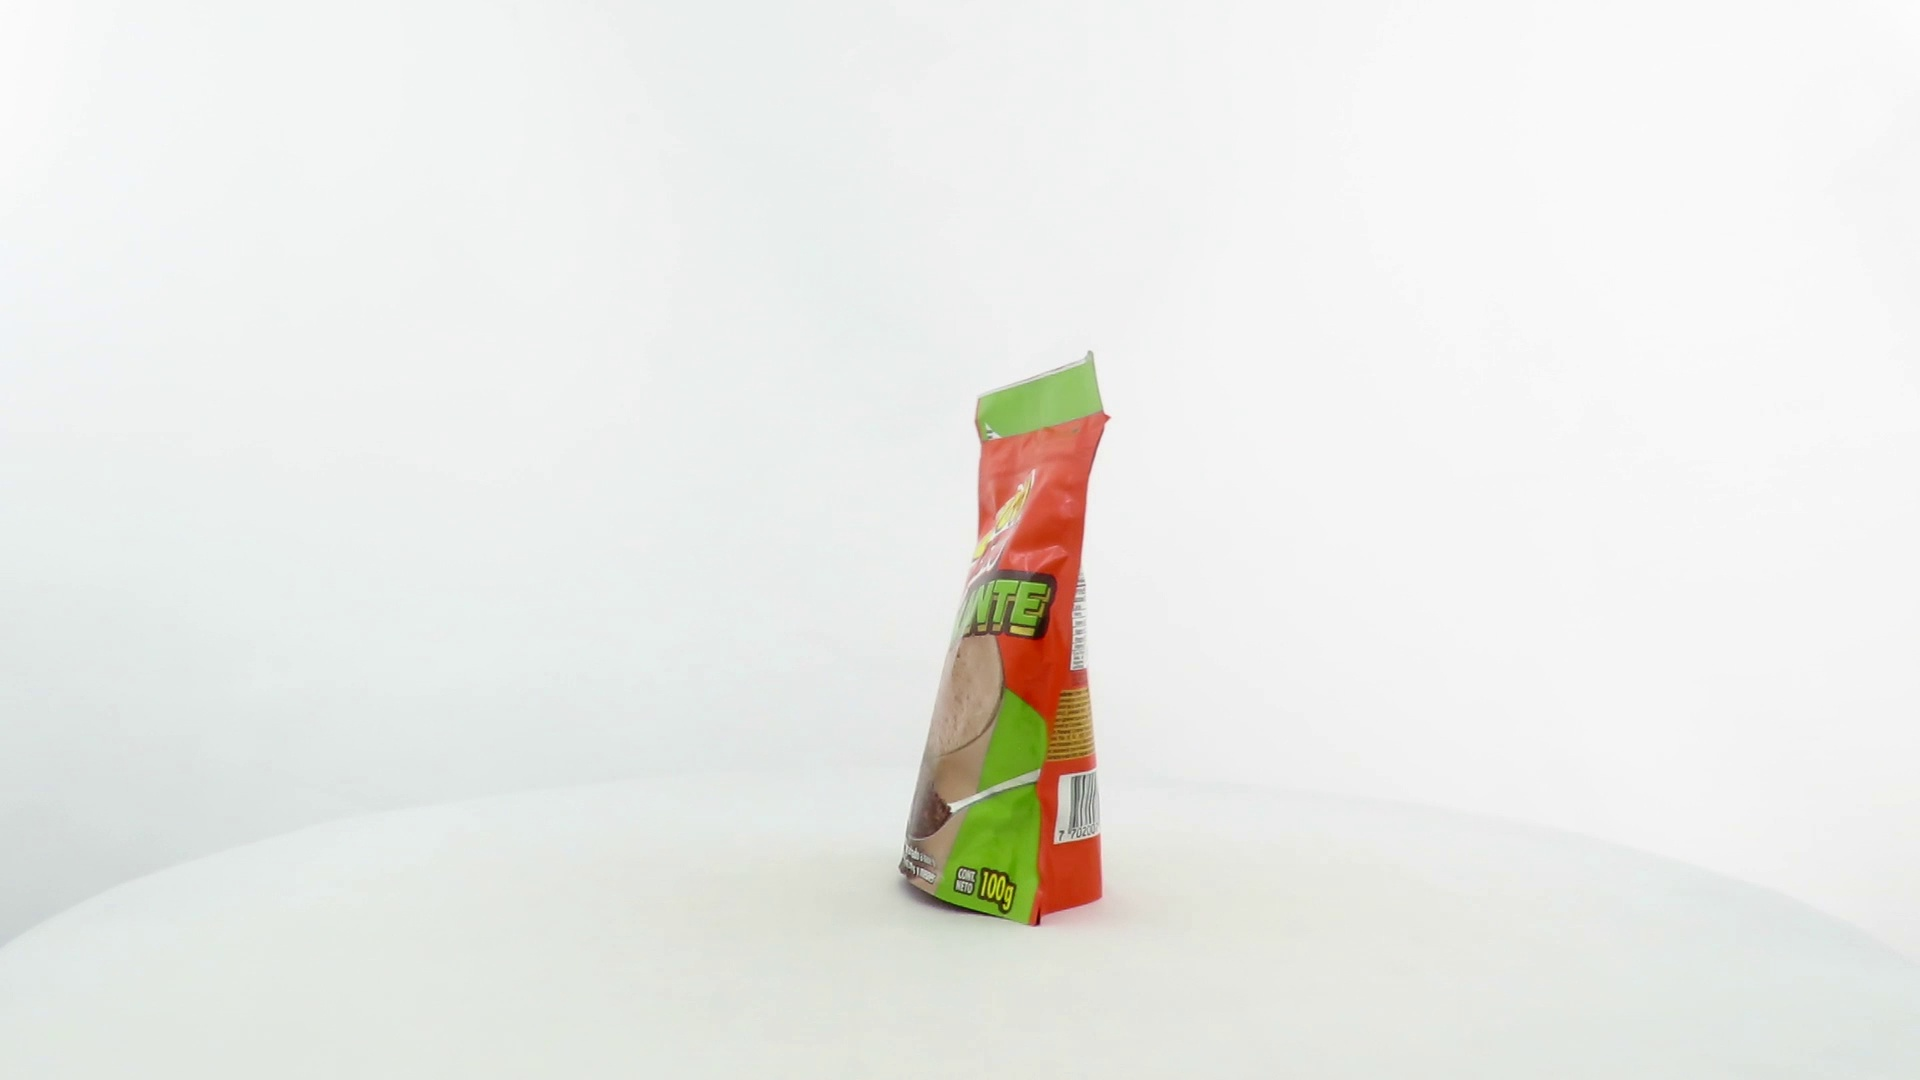COL0170102DYP10000: (893, 345, 1117, 934)
